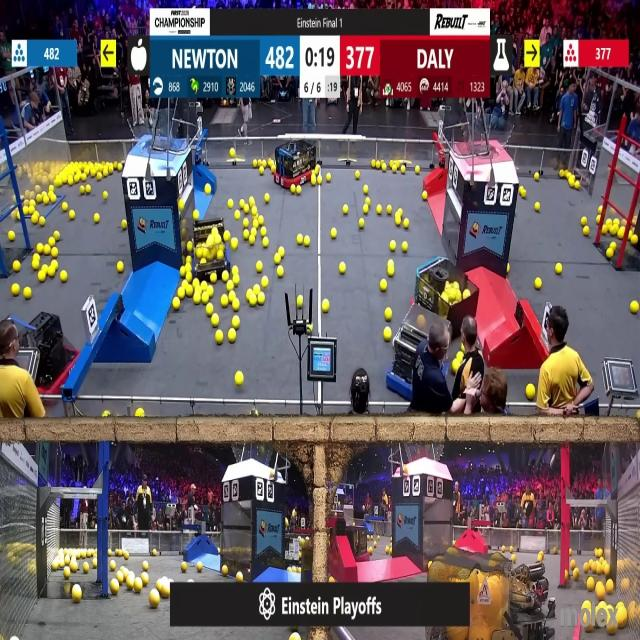ball_ground: (617, 610, 628, 630), (149, 591, 159, 609), (72, 587, 82, 603), (161, 582, 171, 598), (596, 585, 606, 600), (526, 384, 535, 399), (606, 623, 616, 636), (110, 581, 119, 595), (236, 373, 244, 386), (605, 582, 613, 595), (216, 332, 223, 346), (233, 317, 241, 329), (630, 302, 638, 314), (211, 315, 219, 327), (32, 260, 40, 272), (206, 304, 214, 316), (220, 294, 228, 306), (141, 573, 149, 585), (135, 581, 143, 593), (127, 580, 135, 592), (230, 331, 237, 344), (588, 579, 595, 592), (11, 284, 19, 295), (262, 277, 270, 288), (556, 264, 563, 276), (322, 301, 329, 313), (534, 278, 541, 290), (25, 287, 32, 299), (385, 309, 392, 321), (384, 328, 391, 340), (295, 295, 302, 307), (388, 264, 394, 278), (173, 300, 180, 312), (250, 294, 257, 306), (183, 562, 190, 574), (52, 261, 59, 273), (603, 564, 610, 576), (38, 273, 46, 283), (136, 410, 144, 420), (36, 244, 44, 254), (340, 264, 347, 275), (257, 293, 264, 304), (233, 301, 240, 312), (61, 272, 68, 283), (116, 263, 123, 274), (12, 262, 19, 273), (295, 235, 302, 246), (619, 228, 626, 239), (71, 562, 78, 573), (381, 280, 387, 292), (198, 562, 204, 574), (244, 288, 250, 300), (453, 359, 459, 371), (250, 226, 258, 235), (50, 247, 57, 257), (193, 293, 200, 303), (237, 571, 244, 581), (606, 249, 613, 259), (43, 245, 50, 255), (582, 226, 589, 236), (243, 218, 250, 228), (185, 286, 192, 296), (571, 568, 578, 578), (116, 572, 123, 582), (401, 242, 407, 253), (256, 263, 262, 274), (221, 565, 227, 576), (390, 241, 396, 252), (232, 239, 238, 250), (178, 200, 184, 211), (64, 567, 70, 578), (82, 563, 88, 574), (192, 210, 198, 221), (568, 177, 574, 188), (251, 207, 258, 216), (584, 600, 591, 609), (251, 219, 258, 228), (253, 284, 260, 293), (330, 230, 336, 240), (211, 274, 217, 284), (402, 218, 408, 228), (178, 288, 184, 298), (275, 254, 281, 264), (226, 281, 232, 291), (343, 205, 349, 215), (70, 211, 76, 221), (222, 272, 228, 282), (422, 190, 428, 200), (32, 214, 38, 224), (358, 218, 364, 228), (278, 268, 284, 278), (203, 292, 209, 302), (186, 242, 192, 252), (208, 286, 214, 296), (236, 210, 242, 220), (262, 226, 268, 236), (180, 268, 186, 278), (234, 276, 240, 286), (632, 236, 638, 246), (205, 183, 211, 193), (186, 272, 192, 282), (222, 232, 228, 242), (228, 291, 234, 301), (228, 148, 234, 158), (588, 624, 594, 634), (109, 562, 116, 570), (599, 601, 606, 609), (364, 198, 371, 206), (244, 231, 250, 240), (387, 206, 393, 215), (264, 239, 270, 248), (8, 233, 14, 242), (142, 562, 148, 571), (94, 214, 100, 223), (395, 217, 401, 226), (249, 237, 255, 246), (48, 269, 54, 278), (55, 233, 61, 242), (249, 198, 255, 207), (62, 203, 68, 212), (601, 225, 607, 234), (202, 281, 208, 290), (312, 176, 318, 185), (68, 177, 74, 186), (579, 217, 585, 226), (43, 197, 49, 206), (74, 174, 80, 183), (456, 352, 462, 361), (227, 200, 232, 210), (305, 237, 310, 247), (121, 219, 126, 229), (279, 247, 284, 257), (585, 563, 590, 573), (362, 206, 368, 214), (48, 238, 54, 246), (244, 207, 250, 215), (534, 173, 540, 181), (290, 185, 296, 193), (609, 242, 615, 250), (192, 278, 198, 286), (80, 174, 86, 182), (564, 568, 570, 576), (397, 208, 403, 216), (382, 165, 388, 173), (33, 196, 39, 204), (537, 554, 543, 562), (598, 207, 604, 215), (234, 267, 239, 276), (363, 184, 368, 193), (534, 203, 539, 212), (258, 216, 263, 225), (39, 217, 44, 226), (79, 185, 84, 194), (50, 193, 55, 202), (98, 172, 103, 181), (182, 279, 187, 288), (596, 216, 602, 223), (328, 576, 334, 583), (87, 185, 93, 192), (24, 208, 30, 215), (41, 266, 47, 273), (103, 413, 110, 419), (266, 192, 270, 202), (416, 167, 421, 175), (240, 201, 245, 209), (103, 190, 108, 198), (326, 174, 331, 182), (570, 560, 575, 568), (522, 188, 526, 198), (574, 182, 579, 190), (386, 545, 391, 553), (120, 162, 125, 170), (370, 161, 375, 169), (48, 184, 53, 192), (460, 345, 465, 353), (315, 166, 320, 174), (584, 616, 589, 624), (356, 171, 360, 180), (252, 162, 258, 168), (307, 326, 311, 335), (616, 219, 622, 225), (259, 168, 264, 175), (400, 168, 405, 175), (392, 168, 397, 175), (123, 553, 128, 560), (269, 161, 274, 168), (378, 206, 382, 214), (296, 186, 300, 194), (94, 560, 98, 568), (186, 255, 190, 263), (560, 171, 564, 178), (568, 550, 572, 557), (108, 550, 112, 557), (513, 555, 517, 562), (367, 546, 371, 553), (506, 266, 509, 275), (152, 551, 156, 557), (554, 547, 558, 553), (217, 547, 221, 553)
goal: (461, 118, 516, 158), (129, 115, 187, 152)
robot_blue: (389, 322, 435, 400), (193, 215, 231, 282)
robot_red: (414, 254, 474, 336), (272, 140, 318, 190)
